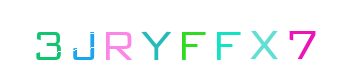3: (10, 0, 90, 80)
7: (263, 0, 343, 80)
F: (148, 0, 228, 80), (149, 0, 229, 80)
J: (46, 0, 126, 80)
R: (94, 0, 174, 80)
X: (175, 0, 255, 80)
Y: (140, 0, 220, 80)
